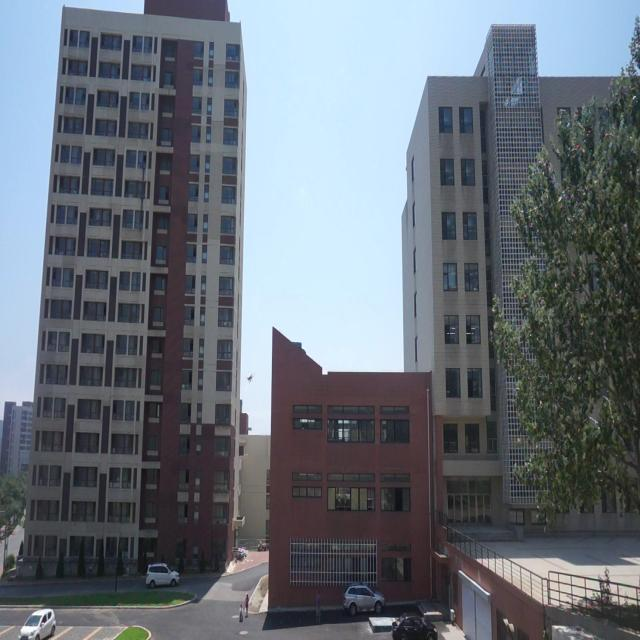drone: (244, 369, 254, 386)
